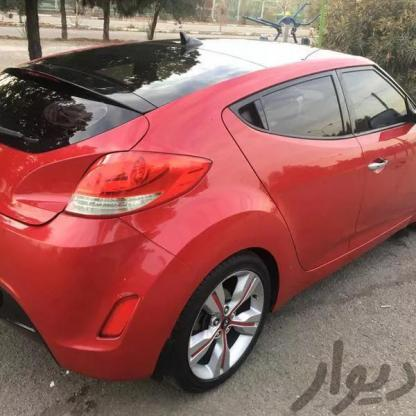Car: (0, 37, 416, 373)
